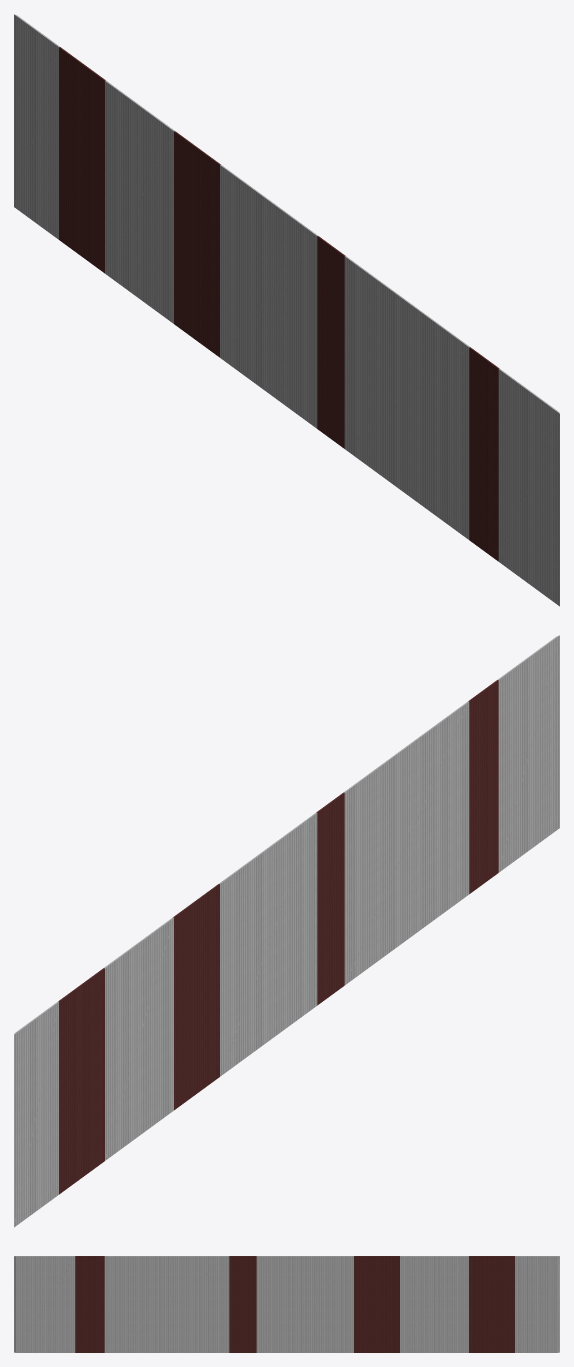
Rendered from Left.glb.
3 renders of one model, top to bottom at view 1: azimuth 30°, elevation 25°; view 2: azimuth 150°, elevation 25°; view 3: azimuth 270°, elevation 25°, orthographic. The views are drawn at different scales.
Parts seen in each view (by area): view 1: Wall_Left; view 2: Wall_Left; view 3: Wall_Left.
Boxes of the visible parts, x1=… form: Wall_Left: x1=14, y1=14, x2=559, y2=606; Wall_Left: x1=14, y1=635, x2=559, y2=1227; Wall_Left: x1=14, y1=1256, x2=559, y2=1352.
Size of the model in its own units: 0.8272 by 120 by 616.
Materials: 2 (2 with a texture image).
